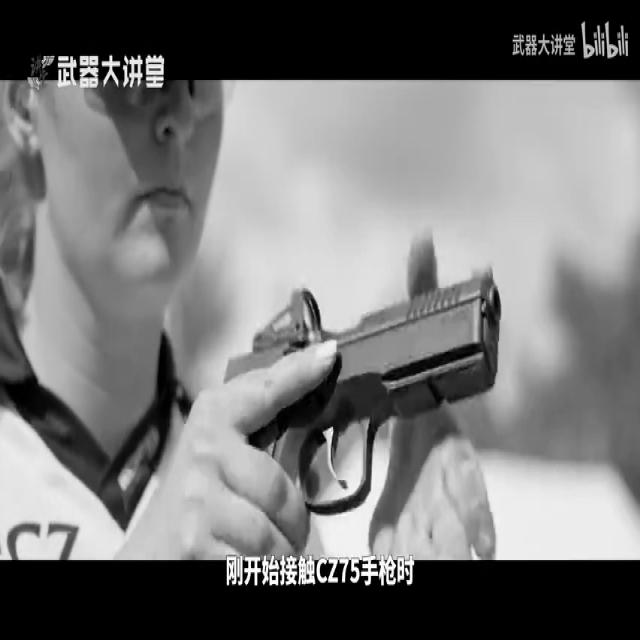Hand-Gun: (185, 254, 511, 572)
